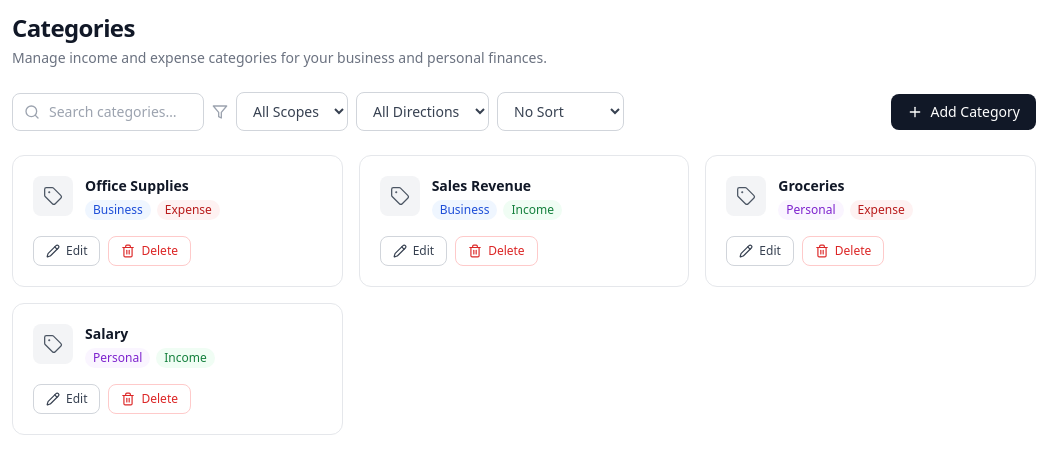
Scenario: CategoriesPage — filtering › filters by income direction
Expected: the heading "Office Supplies" is shown, [85, 176, 189, 195]
Select "Income" in the dropdown named "Filter by direction" at (422, 112), box [356, 92, 489, 131]
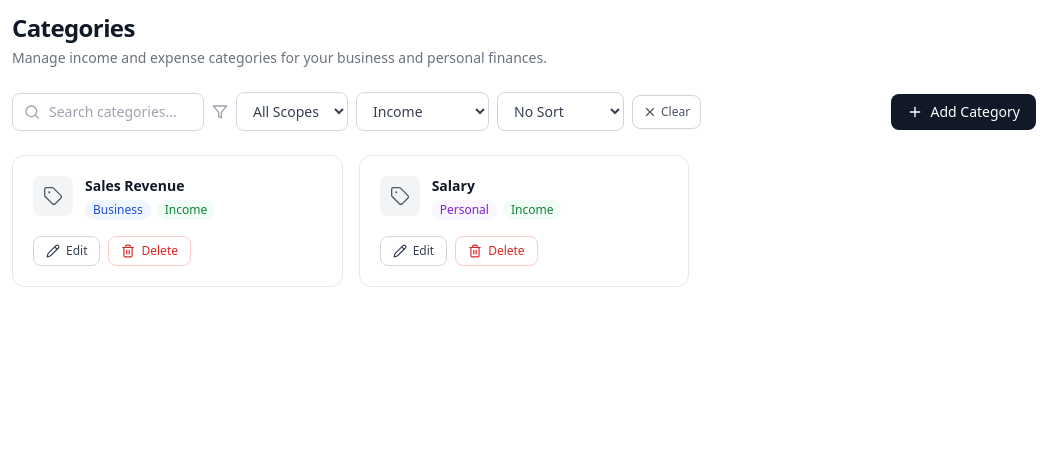
Expected: the heading "Sales Revenue" is shown, [85, 176, 184, 195]
Expected: the heading "Office Supplies" is gone
Expected: the heading "Groceries" is gone
